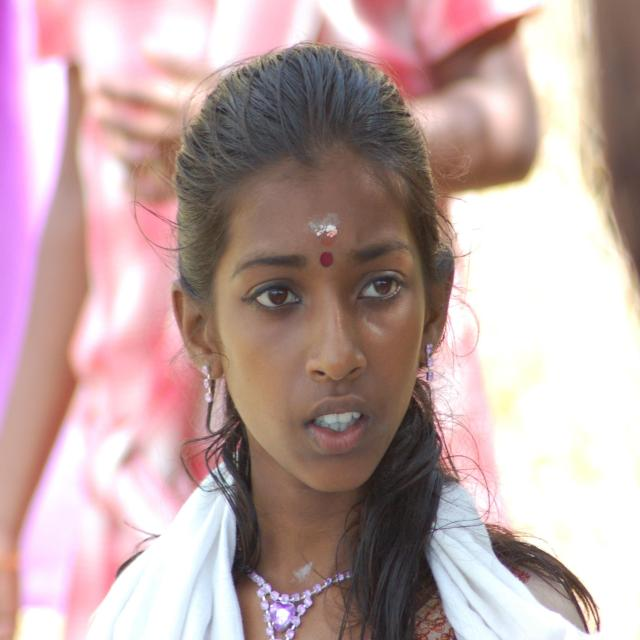no-glass: (246, 267, 405, 315)
